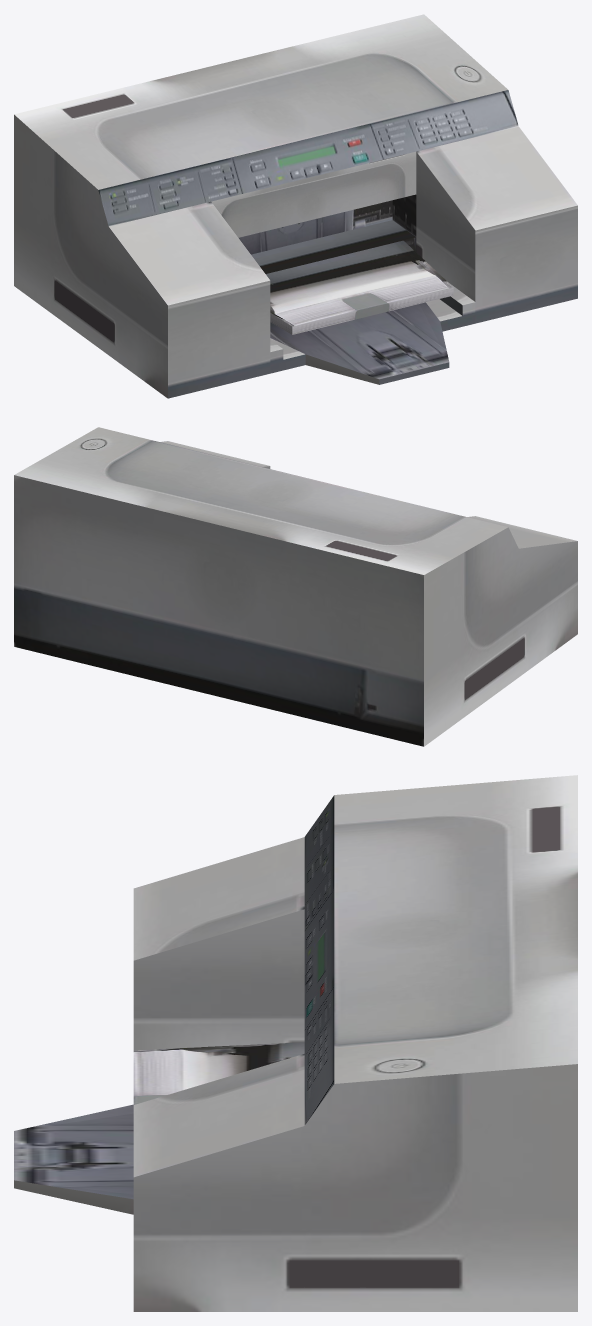
File: printer 1_lod2.fbx
3 renders of one model, top to bottom at view 1: azimuth 30°, elevation 25°; view 2: azimuth 150°, elevation 25°; view 3: azimuth 270°, elevation 25°, orthographic. The views are drawn at different scales.
Visible parts, largest first — view 1: pCube1; view 2: pCube1; view 3: pCube1.
Part boxes in pixels (x1,y1,x2,y2): pCube1: (14,14,577,398); pCube1: (14,427,577,746); pCube1: (14,775,577,1311).
Size of the model in its own units: 2 by 0.8 by 1.65.
